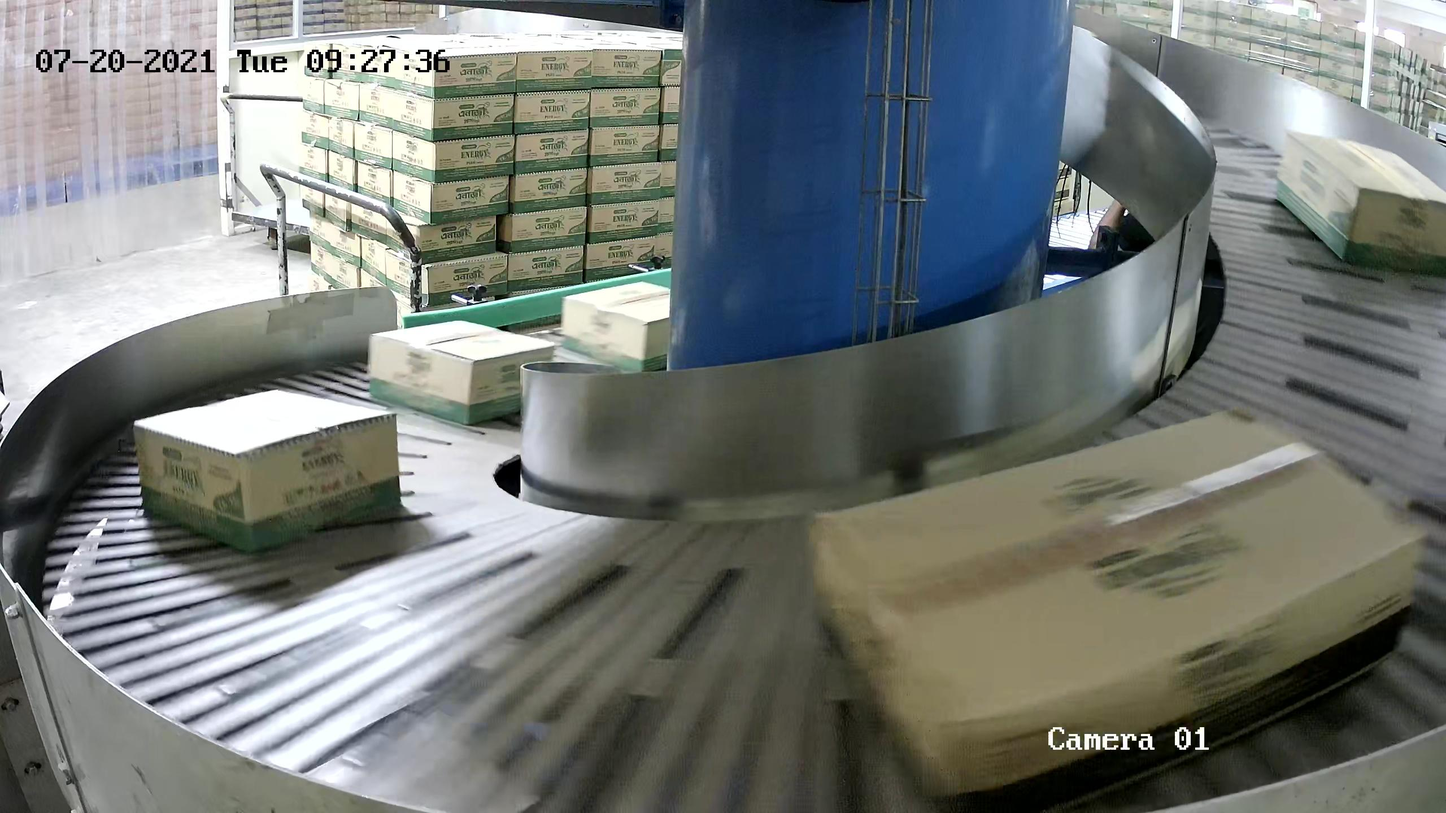Box: (804, 402, 1429, 812), (131, 388, 407, 555), (1272, 127, 1446, 277), (367, 317, 557, 426), (560, 280, 671, 373)
